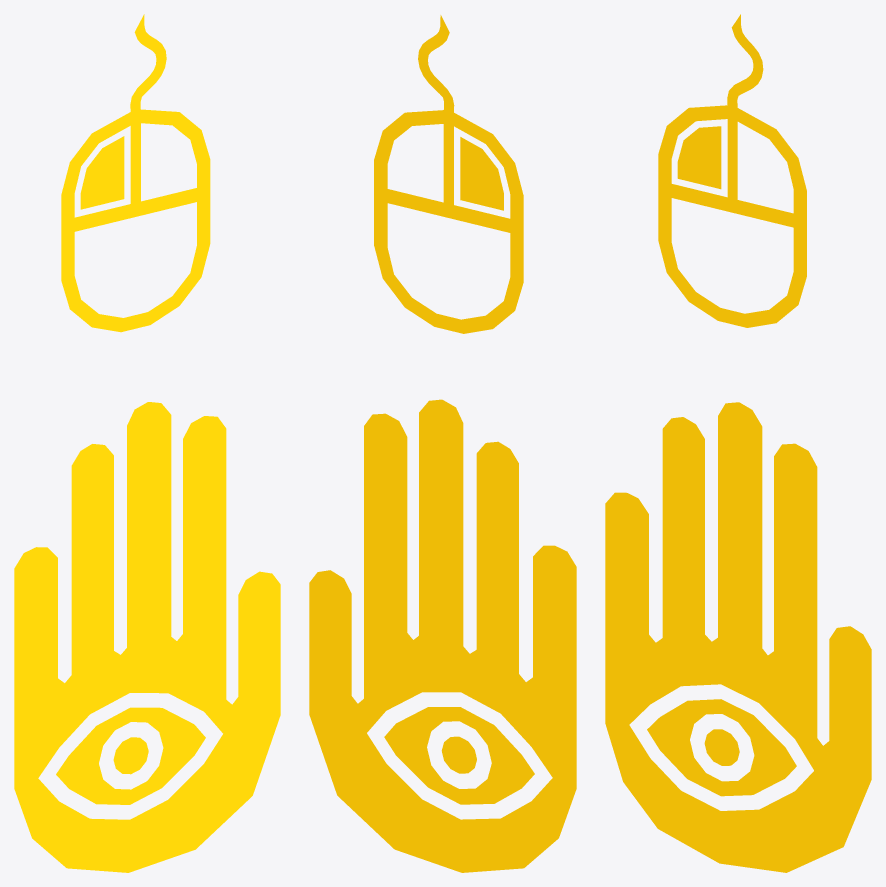
File: statueSelectorHand.glb
The picture shows the model from 3 angles, left to right: view 1: azimuth 30°, elevation 25°; view 2: azimuth 150°, elevation 25°; view 3: azimuth 330°, elevation 25°; orthographic projection.
Visible parts, largest first — view 1: selectorHand; view 2: selectorHand; view 3: selectorHand.
Boxes of the visible parts, <box> form: selectorHand: <box>14,14,280,872</box>; selectorHand: <box>309,15,576,872</box>; selectorHand: <box>605,14,871,872</box>.
Bounding box in the file's own units: 0.7219 × 2.21 × 0.0142.
